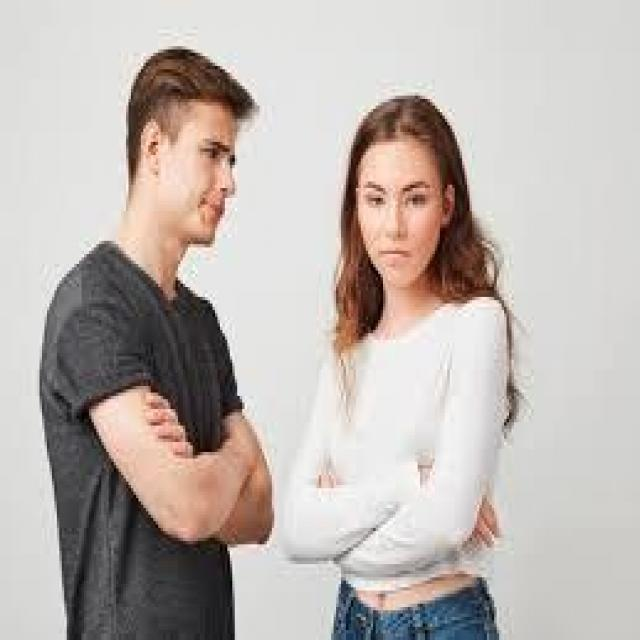person: (17, 36, 277, 637), (257, 76, 536, 617)
